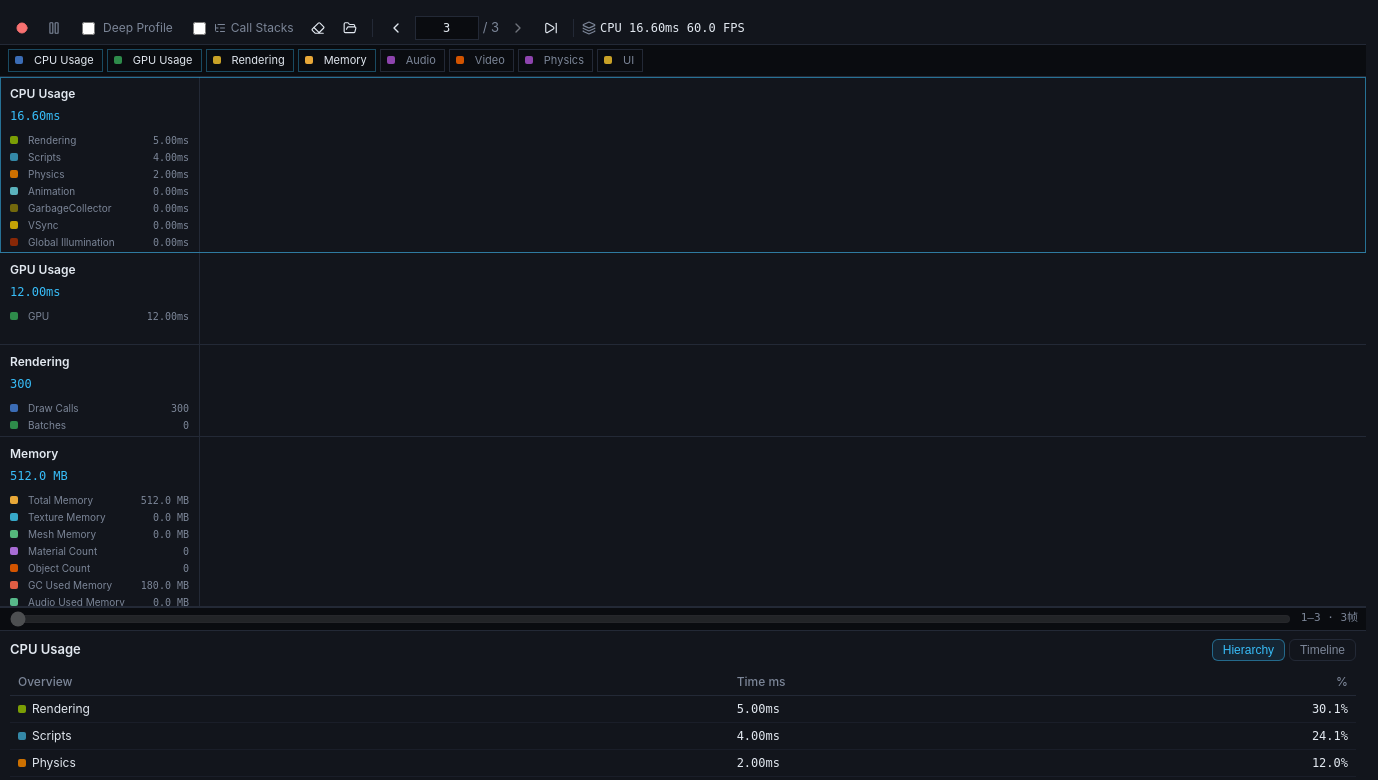
it: ProfilerView › 帧前进后退与 Current
Expected: the field named "当前帧" holds "3", x1=415 y1=16 x2=479 y2=40
Click the button named "上一帧".
click(396, 28)  # box x1=381 y1=15 x2=411 y2=41
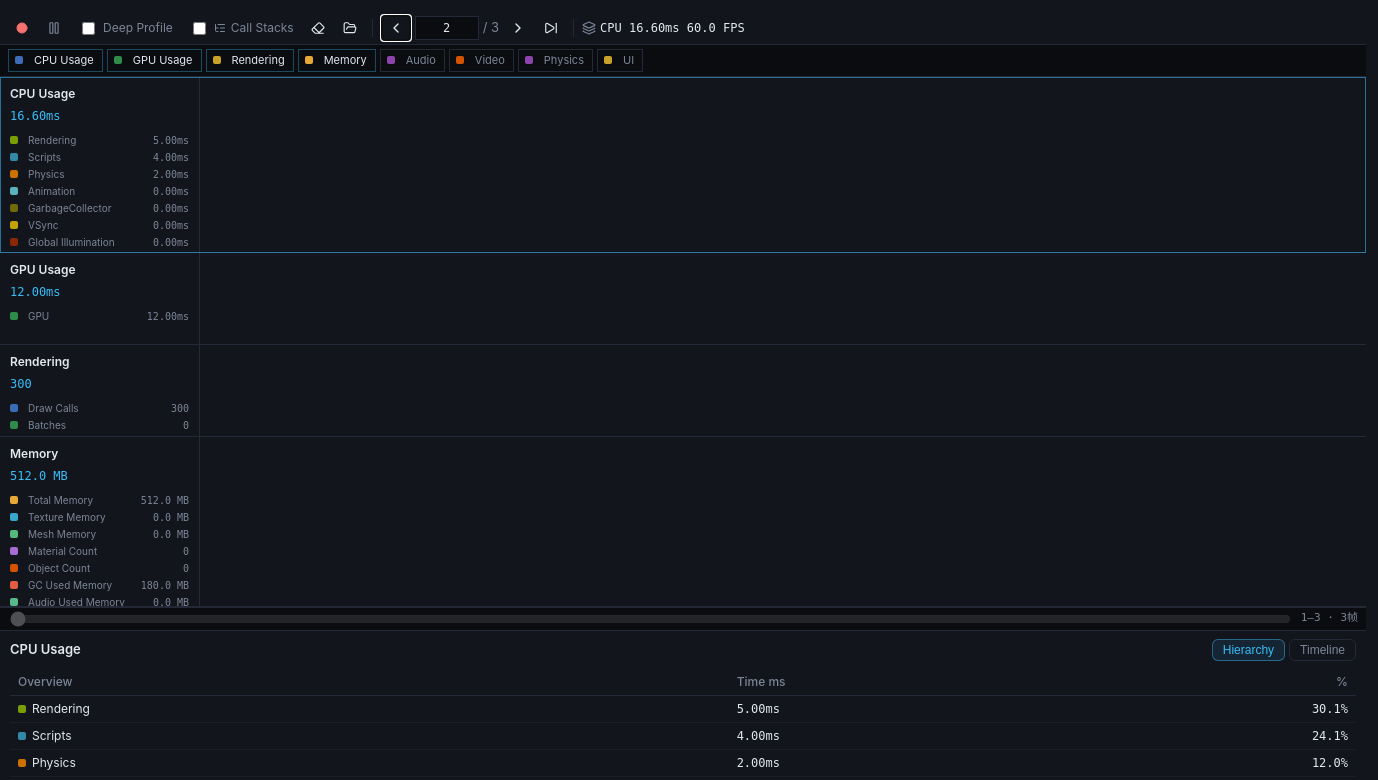
Now the field named "当前帧" holds "2", box x1=415 y1=16 x2=479 y2=40
Click the button named "最新帧".
click(551, 28)  # box x1=537 y1=15 x2=565 y2=41
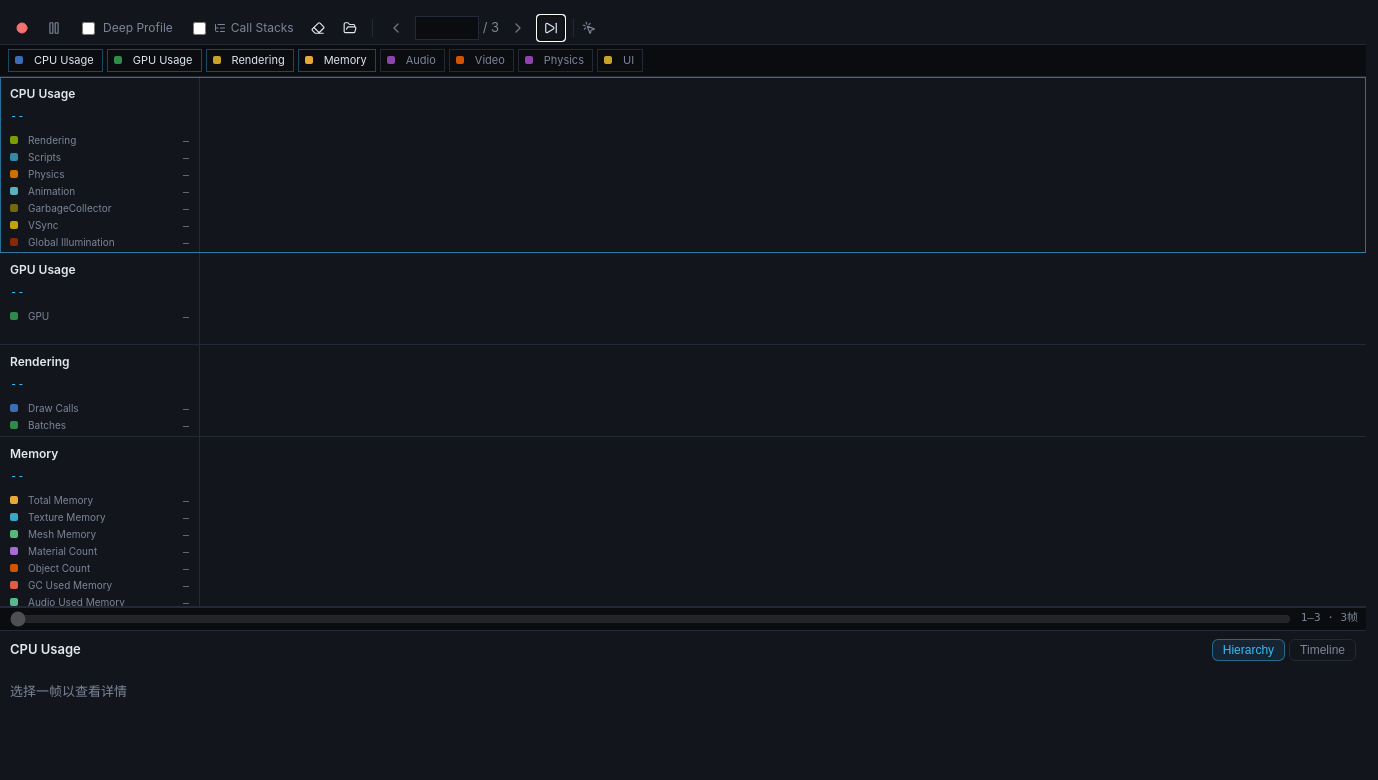
Now the field named "当前帧" is empty, box x1=415 y1=16 x2=479 y2=40
Now the text "选择一帧以查看详情" is shown, box x1=10 y1=682 x2=127 y2=698
